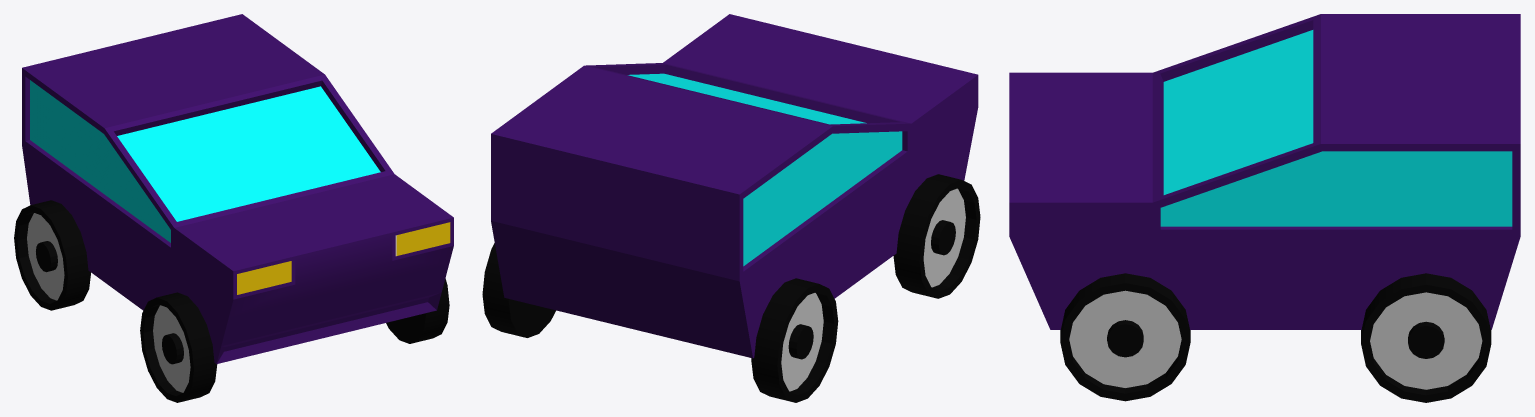
The model's file is SDG_ObstacleCarFixed.fbx.
3 views of the same model, side by side, from view 1: azimuth 30°, elevation 25°; view 2: azimuth 150°, elevation 25°; view 3: azimuth 270°, elevation 25° (orthographic). The views are drawn at different scales.
Visible parts, largest first — view 1: Box011; view 2: Box011; view 3: Box011.
Boxes of the visible parts, x1,y1,x2,y2 form: Box011: (14, 14, 453, 402); Box011: (482, 14, 980, 402); Box011: (1009, 14, 1520, 402).
Size of the model in its own units: 8.85 by 6.65 by 12.45.
